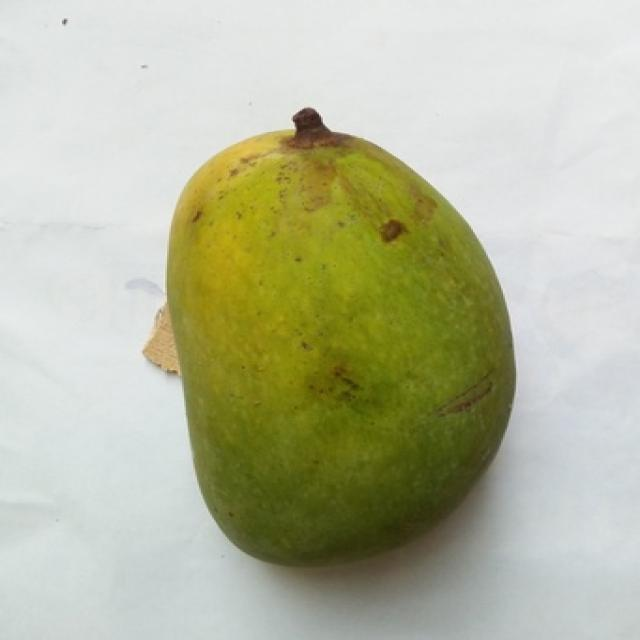Mango: (167, 127, 514, 563)
